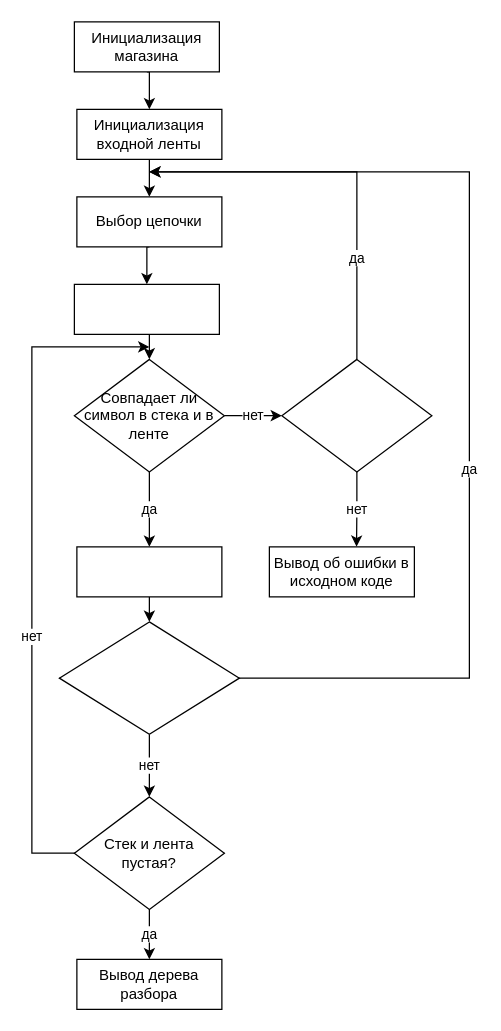
Image size: 501x1031. Some labels were removed from this diagram. Each missing label, with the box of its shape:
Остались ли подходящие правила: (281, 358, 432, 472)
Следующий символ нетерминал?: (58, 621, 239, 734)
Удаление символов с вершины стека и ленты: (76, 546, 222, 597)
Цепочка помещается в стек: (73, 283, 219, 334)
